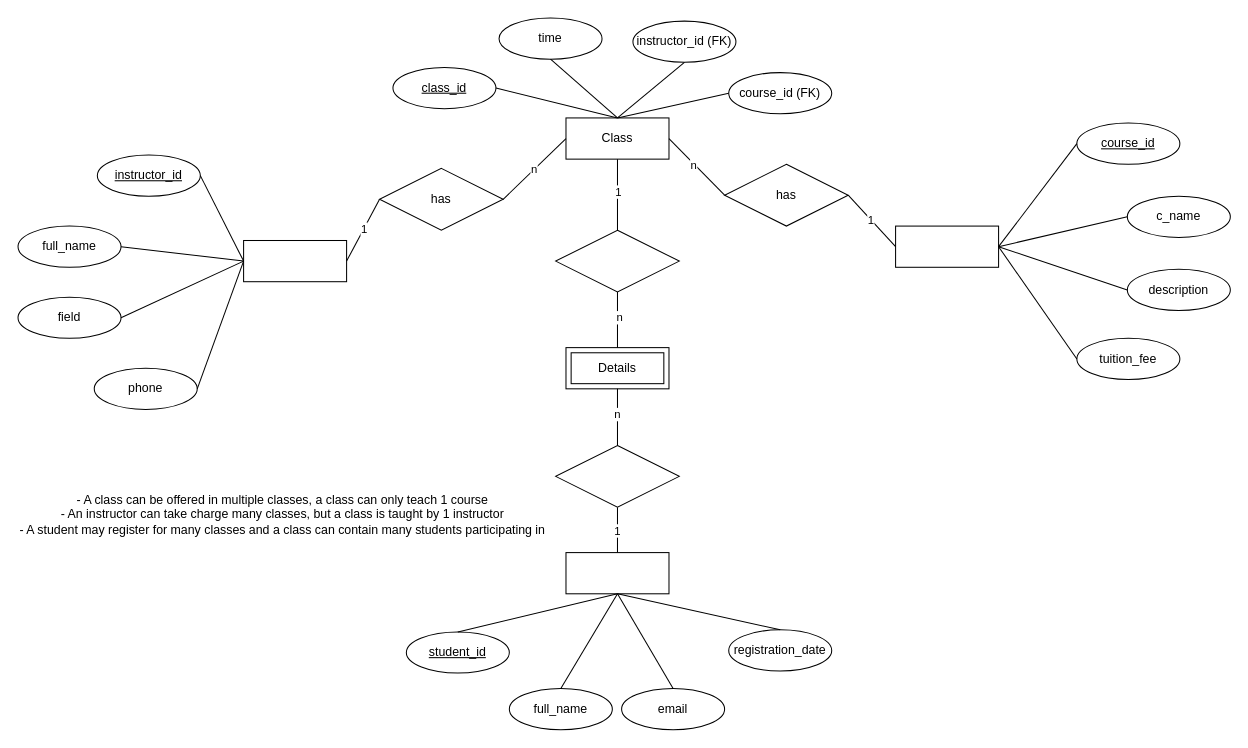
The diagram is 1248 pixels wide and 748 high, and some of its shapes have lost their labels. The shapes that lost their labels are listed below. From the top down, each one's centre as x and y in pixels, then its label:
(295,260): Instructor
(617,260): contains
(947,246): Course
(617,475): enrolls
(617,573): Student
